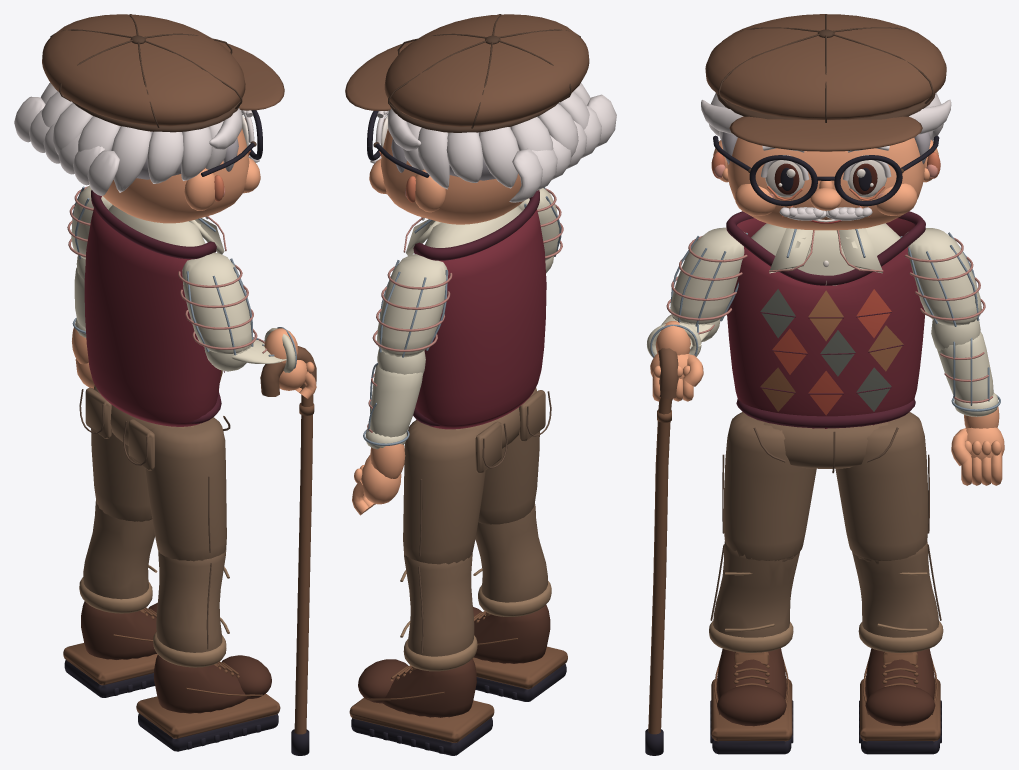
The picture shows the model from 3 angles, left to right: view 1: azimuth 30°, elevation 25°; view 2: azimuth 150°, elevation 25°; view 3: azimuth 270°, elevation 25°; orthographic projection.
Parts seen in each view (by area): view 1: torso.pal_vest, head.pal_cap, head.pal_hairWhite, legR.pal_trouser, shinR.pal_trouser, head.pal_skinWarm, footR.pal_shoe, shinL.pal_trouser, armR.pal_shirt, handR.pal_shoeLight, legL.pal_trouser, footL.pal_shoe (+19 smaller); view 2: head.pal_cap, torso.pal_vest, head.pal_hairWhite, legL.pal_trouser, shinL.pal_trouser, head.pal_skinWarm, footL.pal_shoe, shinR.pal_trouser, armL.pal_shirt, foreArmL.pal_shirt, legR.pal_trouser, footR.pal_shoe (+16 smaller); view 3: head.pal_cap, torso.pal_vest, legL.pal_trouser, legR.pal_trouser, head.pal_skinWarm, shinR.pal_trouser, shinL.pal_trouser, torso.pal_vestTrim, torso.pal_shirt, handR.pal_shoeLight, armR.pal_shirt, armL.pal_shirt (+28 smaller).
Part boxes in pixels (x1,y1,x2,y2): torso.pal_vest: (84, 196, 220, 426); head.pal_cap: (42, 14, 284, 126); head.pal_hairWhite: (14, 82, 259, 195); legR.pal_trouser: (145, 417, 226, 561); shinR.pal_trouser: (156, 549, 226, 652); head.pal_skinWarm: (103, 129, 260, 223); footR.pal_shoe: (154, 655, 271, 713); shinL.pal_trouser: (83, 500, 154, 599); armR.pal_shirt: (182, 252, 253, 353); handR.pal_shoeLight: (294, 394, 314, 734); legL.pal_trouser: (91, 385, 152, 521); footL.pal_shoe: (81, 601, 157, 659); head.pal_cap: (345, 14, 589, 126); torso.pal_vest: (415, 197, 546, 429); head.pal_hairWhite: (370, 83, 616, 202); legL.pal_trouser: (403, 420, 485, 564); shinL.pal_trouser: (404, 553, 474, 656); head.pal_skinWarm: (369, 128, 523, 224); footL.pal_shoe: (358, 658, 476, 717); shinR.pal_trouser: (475, 503, 547, 602); armL.pal_shirt: (376, 254, 448, 357); foreArmL.pal_shirt: (365, 348, 425, 449); legR.pal_trouser: (478, 387, 539, 524); footR.pal_shoe: (473, 605, 550, 663); head.pal_cap: (705, 14, 946, 151); torso.pal_vest: (727, 218, 925, 428); legL.pal_trouser: (835, 412, 928, 560); legR.pal_trouser: (724, 412, 816, 560); head.pal_skinWarm: (713, 137, 938, 230); shinR.pal_trouser: (713, 541, 799, 637); shinL.pal_trouser: (852, 541, 938, 637); torso.pal_vestTrim: (726, 211, 925, 428); torso.pal_shirt: (751, 223, 900, 285); handR.pal_shoeLight: (648, 397, 672, 734); armR.pal_shirt: (670, 227, 747, 324); armL.pal_shirt: (905, 228, 981, 325).
Size of the model in its own units: 0.4549 by 1.4 by 0.6678.
